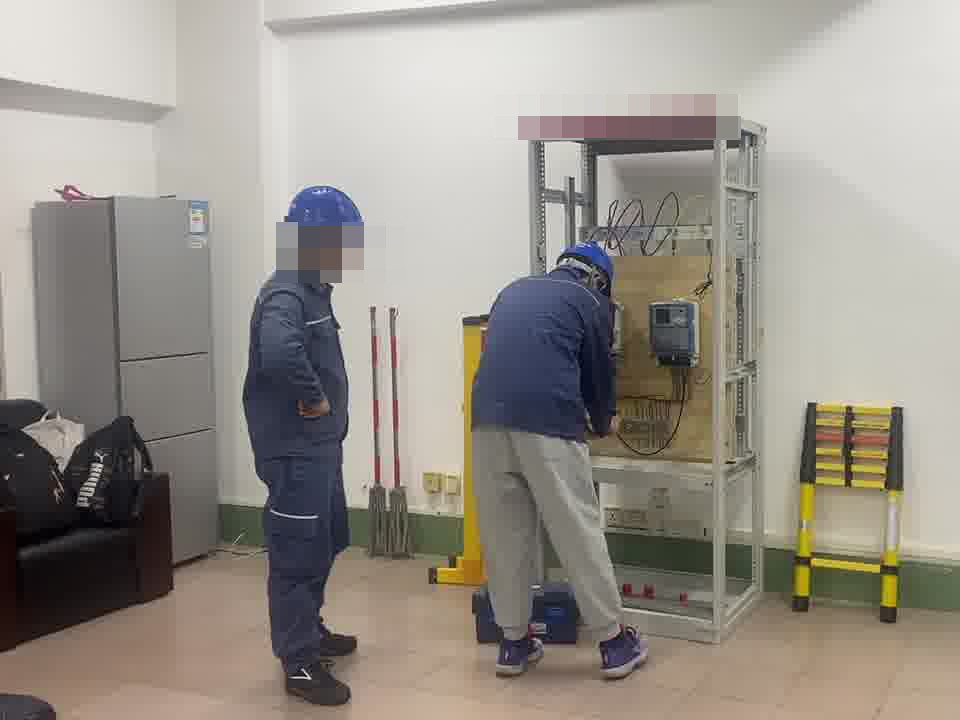downcloth: (471, 447, 625, 642)
downsuit: (257, 462, 351, 668)
halt: (282, 186, 371, 280), (556, 242, 614, 295)
hand: (294, 395, 335, 421)
inear: (309, 230, 341, 271)
person: (463, 236, 632, 669), (241, 182, 377, 699)
upsuit: (472, 270, 612, 436), (242, 268, 351, 457)
